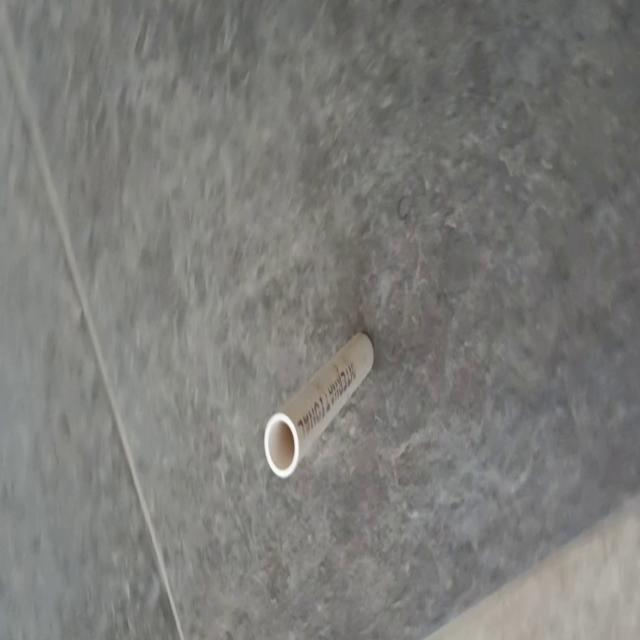Cube: (263, 329, 375, 479)
